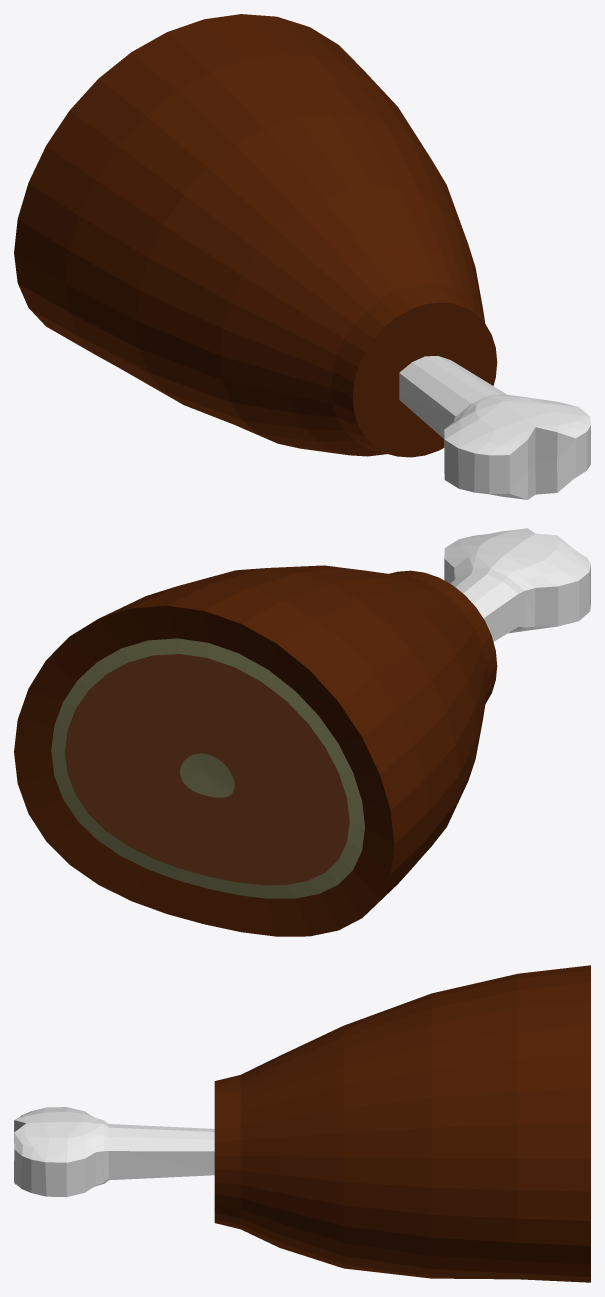
Rendered from Carne2.fbx.
3 renders of one model, top to bottom at view 1: azimuth 30°, elevation 25°; view 2: azimuth 150°, elevation 25°; view 3: azimuth 270°, elevation 25°, orthographic. The views are drawn at different scales.
Visible parts, largest first — view 1: Carne2; view 2: Carne2; view 3: Carne2.
Boxes of the visible parts, bbox=[...] form: Carne2: bbox=[14, 14, 590, 499]; Carne2: bbox=[14, 528, 590, 936]; Carne2: bbox=[14, 965, 590, 1282].
Size of the model in its own units: 89.65 by 72.48 by 138.
